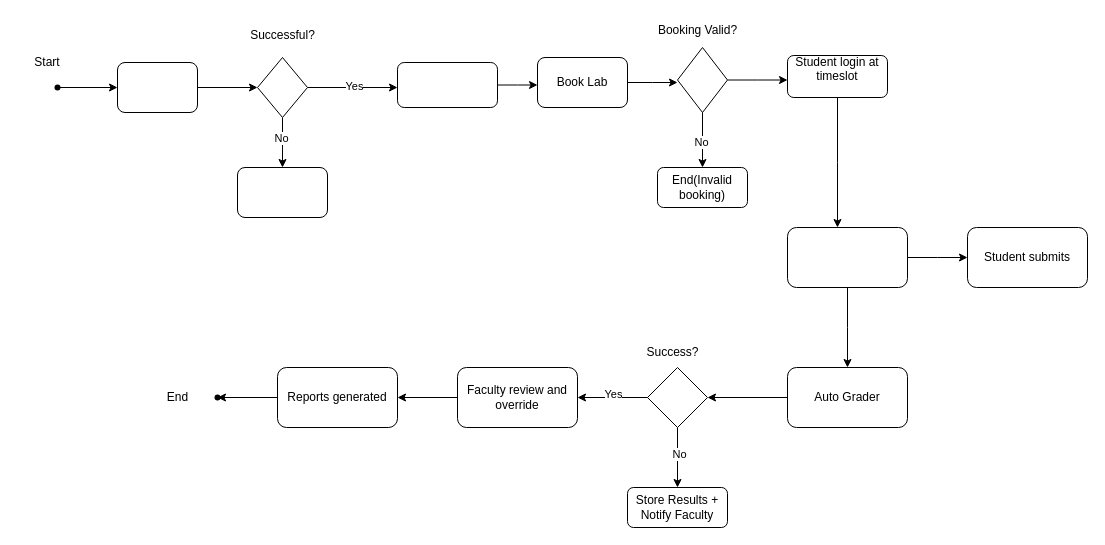
Some shapes in this 1105 by 545 pixel diagram are drawn without their labels. The box of each missing label's shape, as (x1, y1, x2, y2) in pixels:
Encrypt and upload quiz: (396, 62, 498, 108)
End(error): (236, 166, 328, 218)
Login: (116, 62, 198, 112)
Secure exam viewer/IDE: (786, 226, 908, 288)
